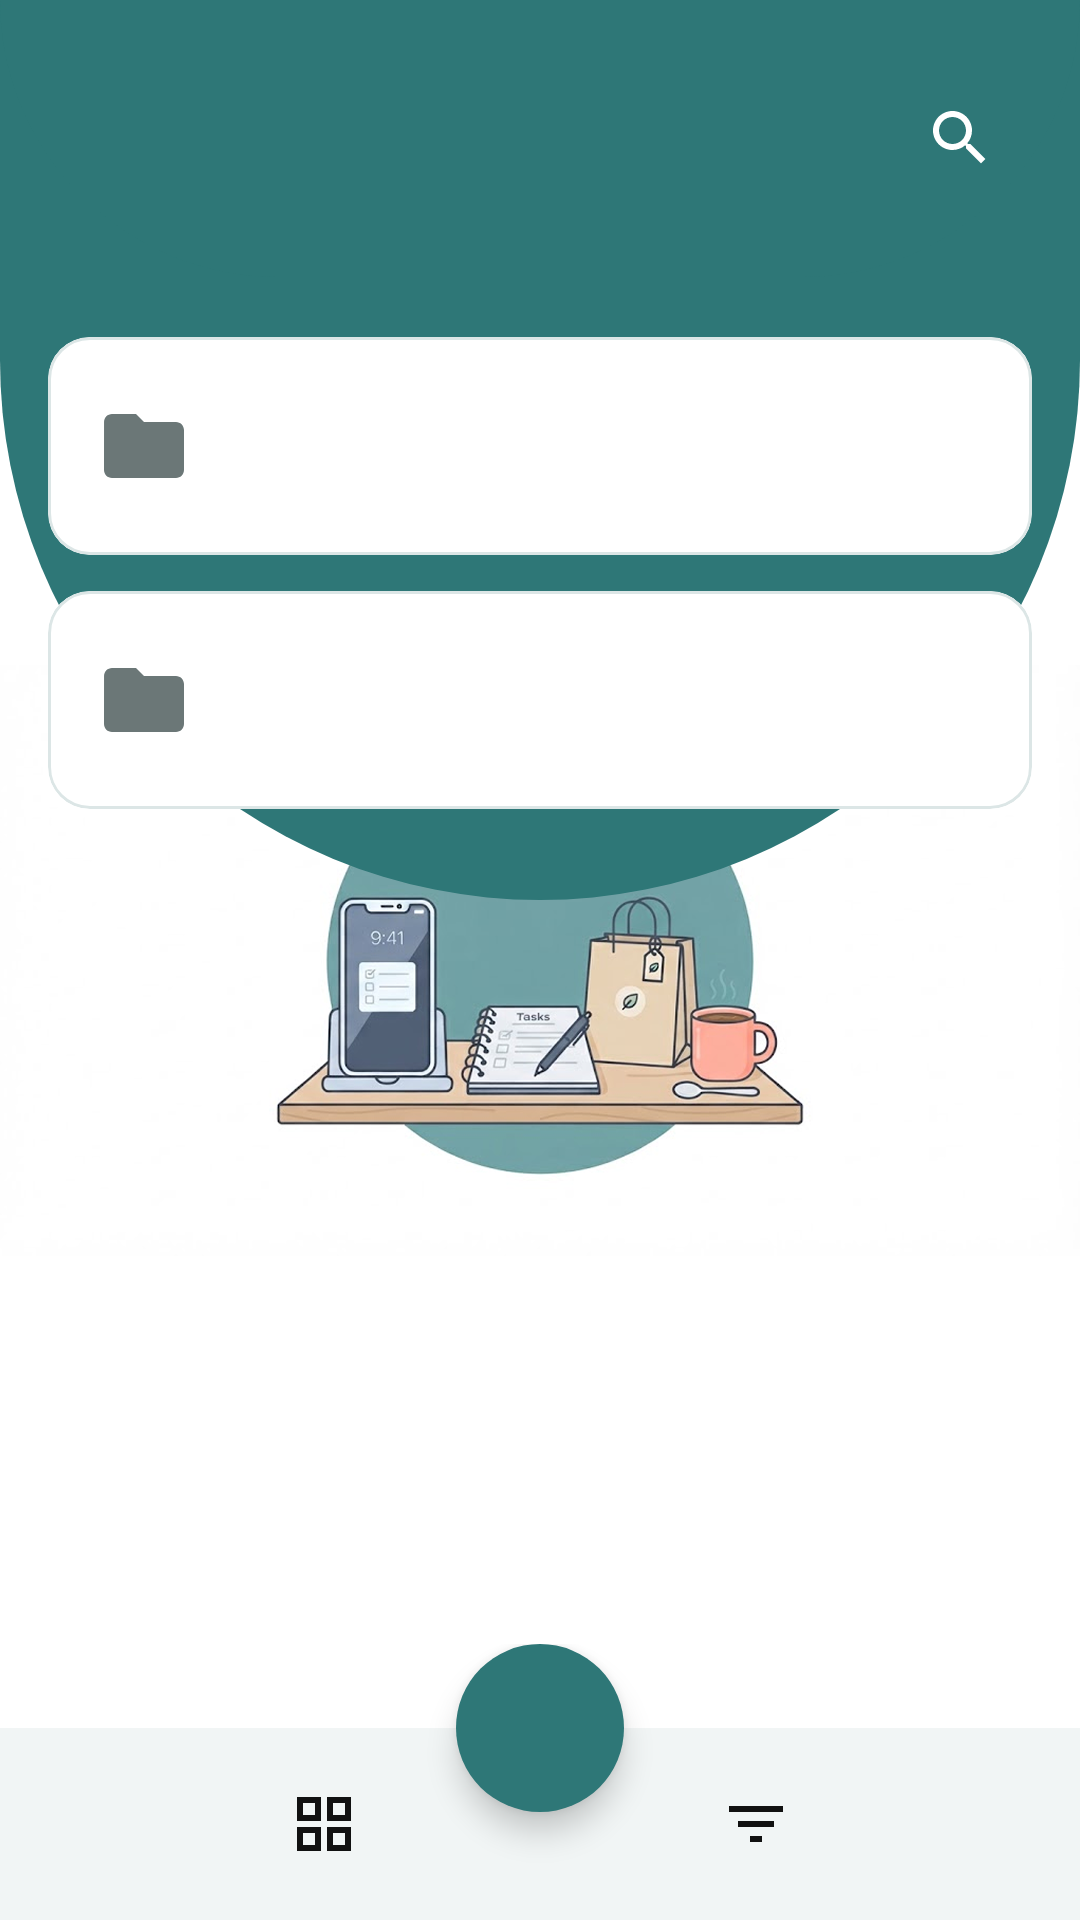

Icon click points for this 1080 × 1920 phone screenshot, format [x,y]:
Categories: [324,1824]
Filter: [756,1824]
folder: [144,446], [144,700]
Search: [959,137]
